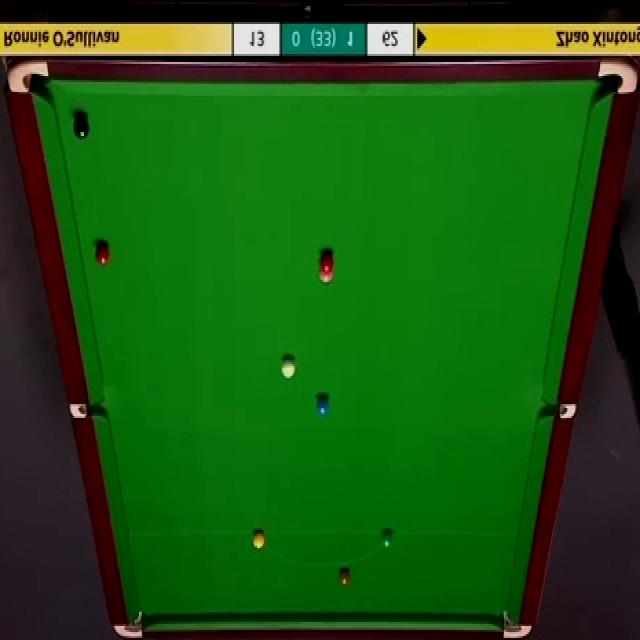black-ball: (70, 110, 87, 136)
blue-ball: (315, 394, 330, 418)
brown-ball: (338, 566, 351, 586)
green-ball: (380, 530, 393, 551)
pink-ball: (318, 270, 334, 285)
red-ball: (94, 242, 110, 268), (319, 252, 335, 273)
white-ball: (279, 356, 295, 380)
yellow-ball: (253, 530, 265, 550)
